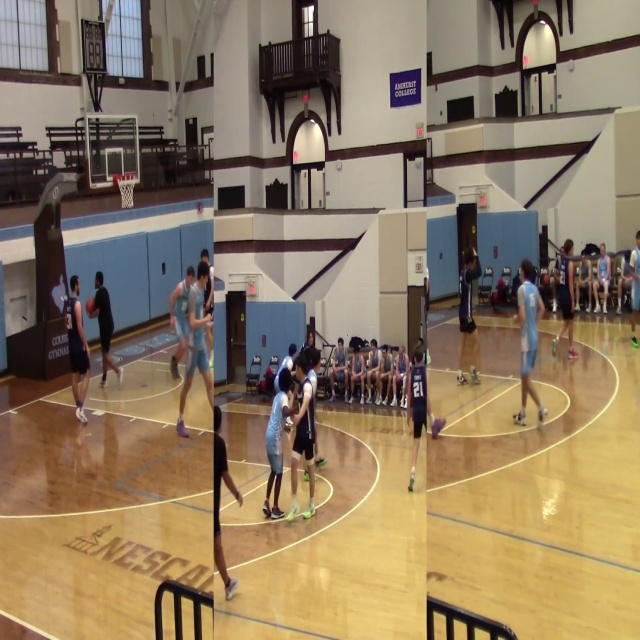Basketball: (175, 343, 186, 362), (282, 404, 299, 416), (86, 298, 96, 316)
